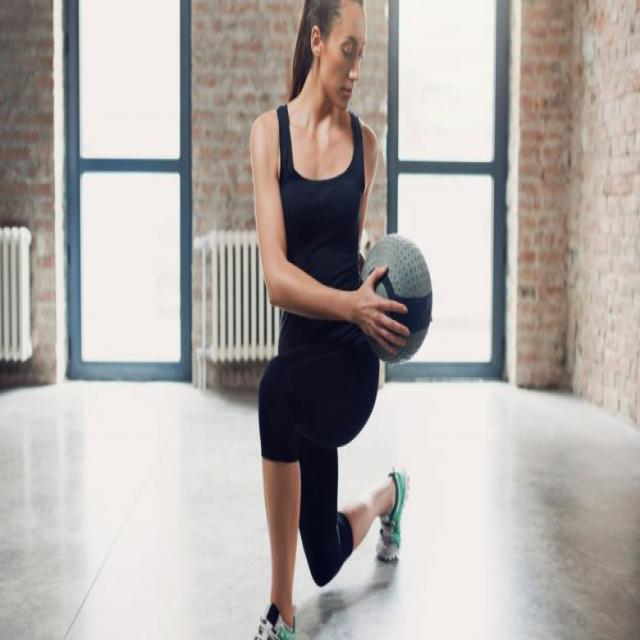Ball: (353, 222, 436, 374)
